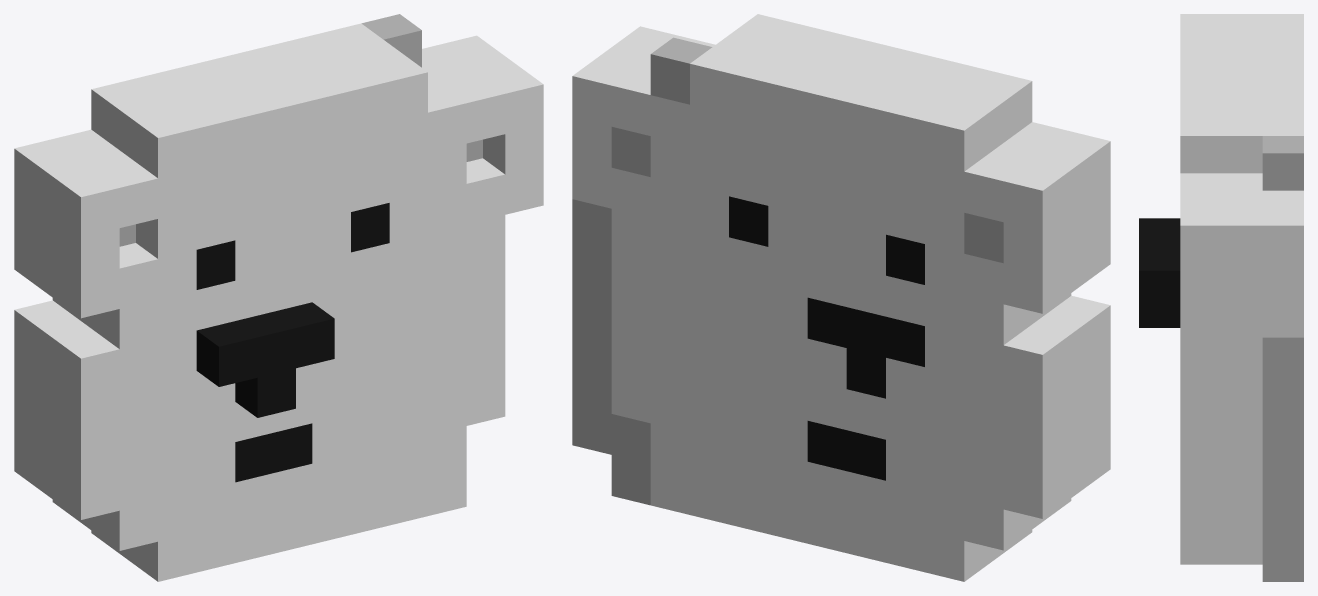
The model's file is bear2-1.obj.
3 views of the same model, side by side, from view 1: azimuth 30°, elevation 25°; view 2: azimuth 150°, elevation 25°; view 3: azimuth 270°, elevation 25° (orthographic). The views are drawn at different scales.
Bounding box in the file's own units: 1.2 × 1.1 × 0.4.
1 material, 1 textured.
